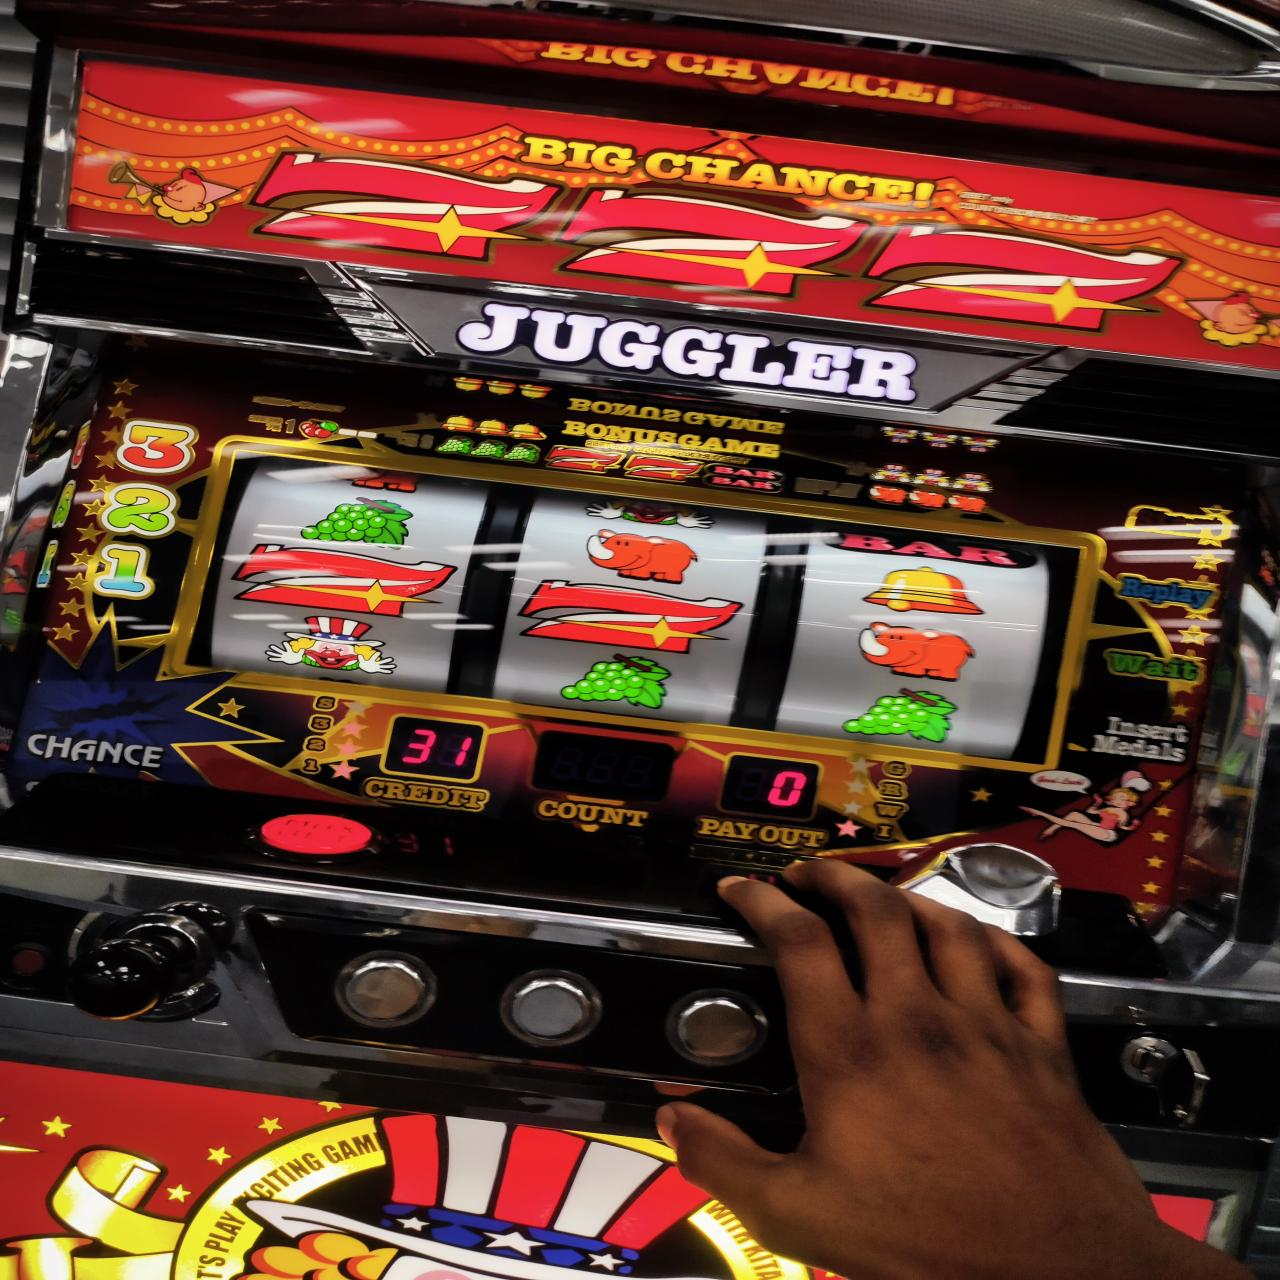7: (239, 542, 449, 619), (529, 579, 735, 652)
8: (859, 618, 983, 682), (583, 525, 700, 583)
Display: (217, 442, 1056, 764)
bell: (862, 564, 987, 617)
clown: (264, 617, 396, 678)
grape: (558, 653, 669, 710), (839, 688, 958, 741), (298, 496, 415, 549)
